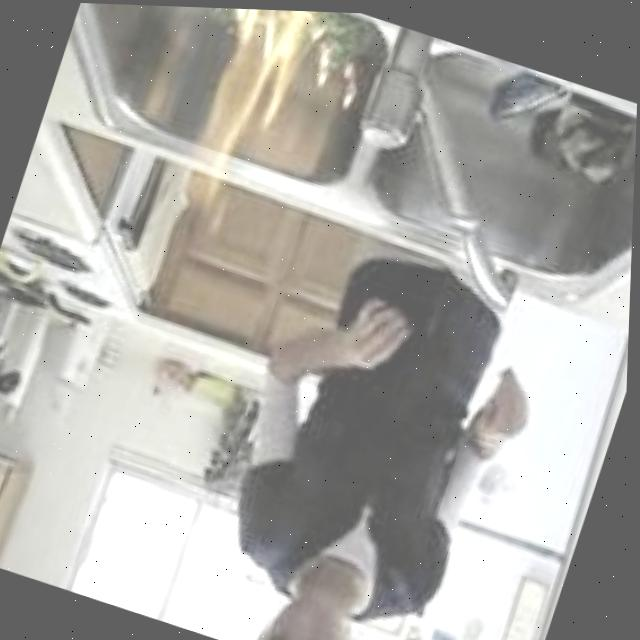Fire: (167, 5, 337, 219), (283, 19, 378, 118), (296, 21, 378, 115)
